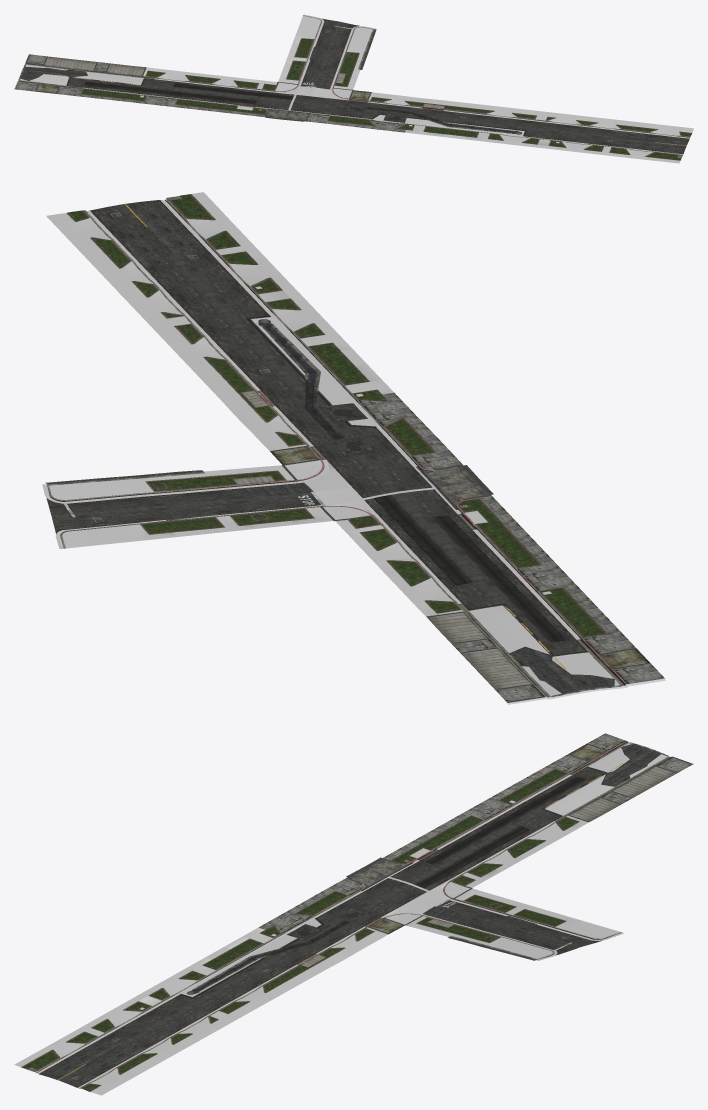
3 renders of one model, top to bottom at view 1: azimuth 30°, elevation 25°; view 2: azimuth 150°, elevation 25°; view 3: azimuth 270°, elevation 25°, orthographic. The views are drawn at different scales.
Visible parts, largest first — view 1: sc1_rd_r3_04; view 2: sc1_rd_r3_04; view 3: sc1_rd_r3_04.
Part boxes in pixels (box(x1,y1,x2,y2)): sc1_rd_r3_04: box(14, 14, 693, 163); sc1_rd_r3_04: box(42, 192, 665, 704); sc1_rd_r3_04: box(14, 733, 693, 1095).
Bounding box in the file's own units: 16345 × 808 × 14261.
